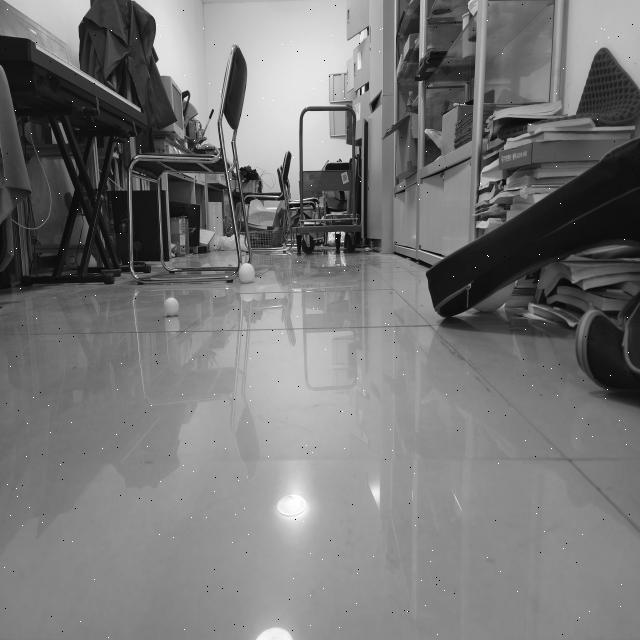ping-pong-ball: (163, 296, 180, 317)
